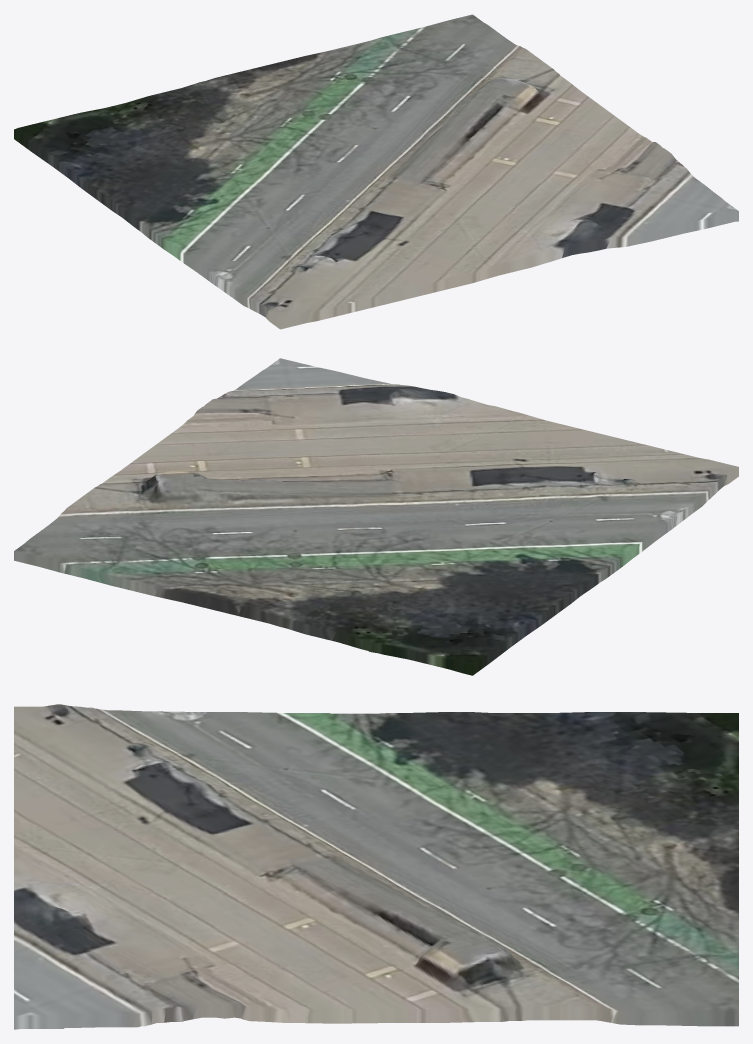
File: z20-167768-405192-h0-yup-uvflip-v3-world.glb
3 views of the same model, one above another, from view 1: azimuth 30°, elevation 25°; view 2: azimuth 150°, elevation 25°; view 3: azimuth 270°, elevation 25° (orthographic). The views are drawn at different scales.
Bounding box in the file's own units: 30.16 × 1.88 × 30.32.
1 material, 1 textured.
